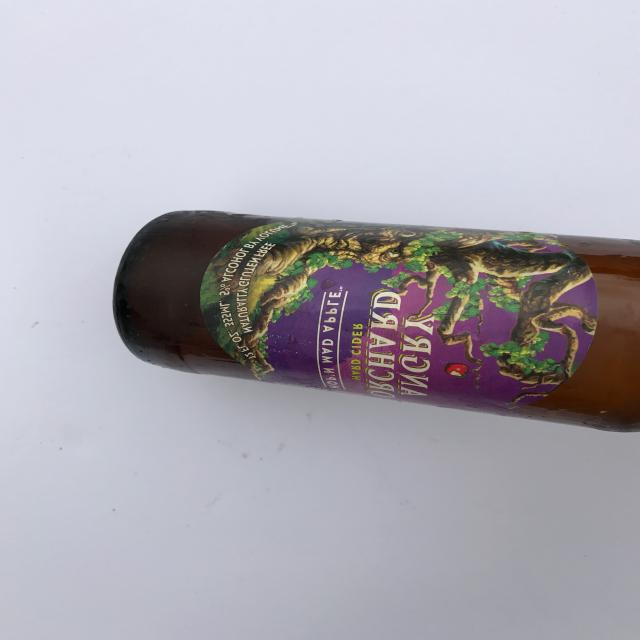glass: (111, 209, 640, 433)
